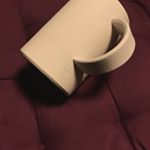cups: (15, 1, 137, 99)
